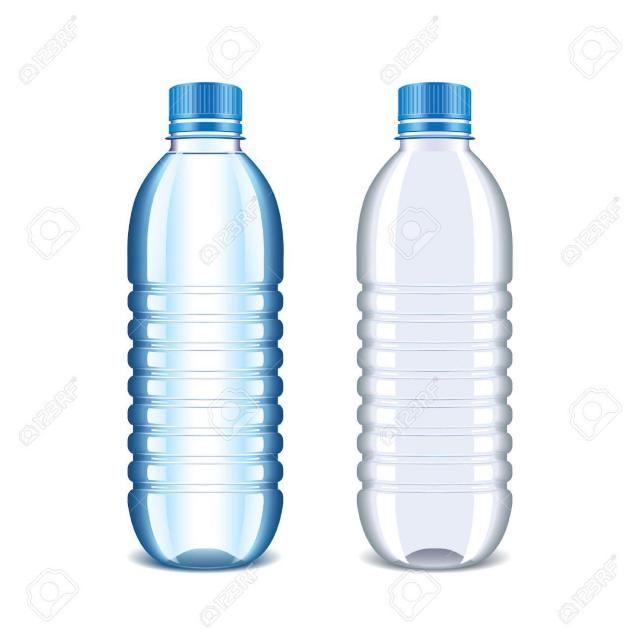plastic_bottle: (351, 83, 514, 572), (122, 75, 280, 579)
